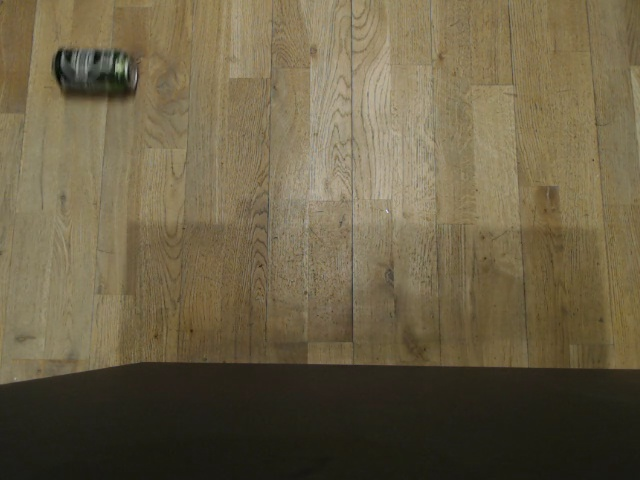beer: (46, 46, 143, 100)
